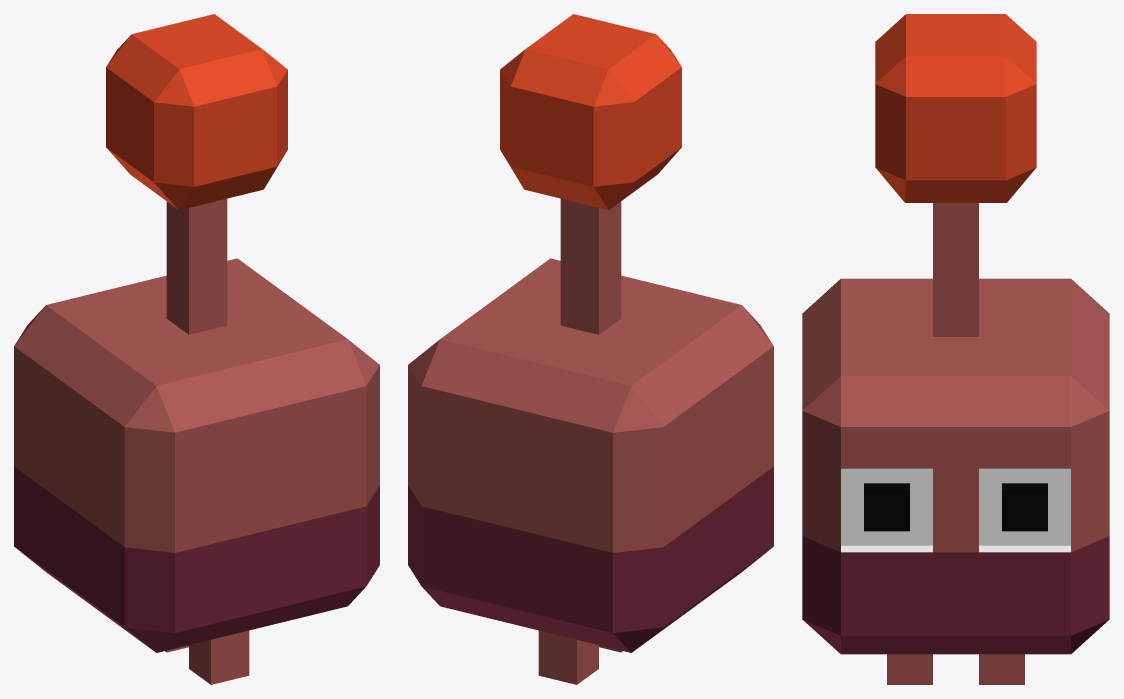
The model's file is SlimeEnemy.fbx.
3 renders of one model, left to right at view 1: azimuth 30°, elevation 25°; view 2: azimuth 150°, elevation 25°; view 3: azimuth 270°, elevation 25°, orthographic. The views are drawn at different scales.
Visible parts, largest first — view 1: Enemy; view 2: Enemy; view 3: Enemy.
Part boxes in pixels (x1,y1,x2,y2): Enemy: (14, 14, 379, 684); Enemy: (408, 14, 773, 684); Enemy: (802, 14, 1109, 684).
Size of the model in its own units: 200 by 460 by 200.
